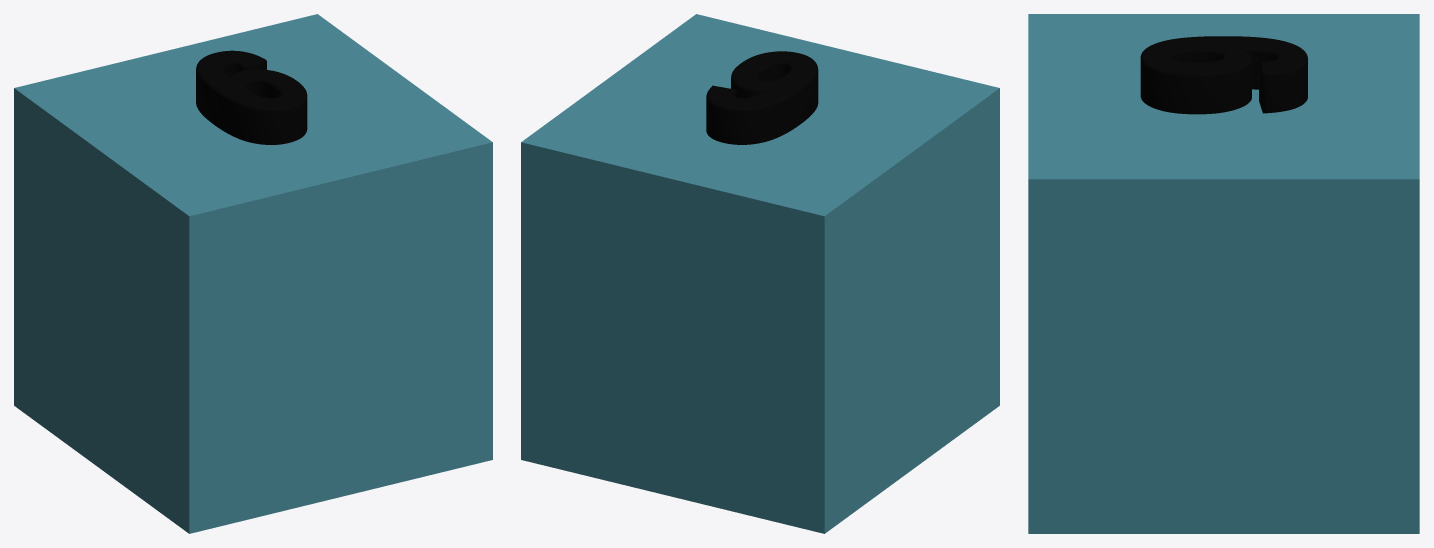
File: level6.fbx
The picture shows the model from 3 angles, left to right: view 1: azimuth 30°, elevation 25°; view 2: azimuth 150°, elevation 25°; view 3: azimuth 270°, elevation 25°; orthographic projection. The views are drawn at different scales.
Visible parts, largest first — view 1: Text; view 2: Text; view 3: Text.
Boxes of the visible parts, x1,y1,x2,y2 form: Text: (14,14,492,533); Text: (521,14,999,533); Text: (1028,14,1419,533).
Size of the model in its own units: 200 by 223 by 200.
